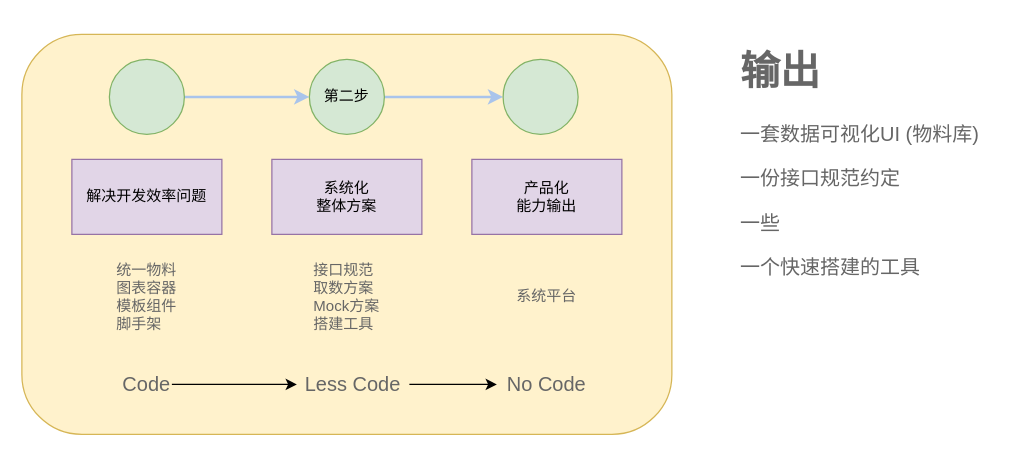
The diagram is 1019 pixels wide and 456 high, and some of its shapes have lost their labels. The centre of each missing label's shape, as x and y in pixels:
"第一步" belongs at pixel 146 96.
"第三步" belongs at pixel 540 96.
